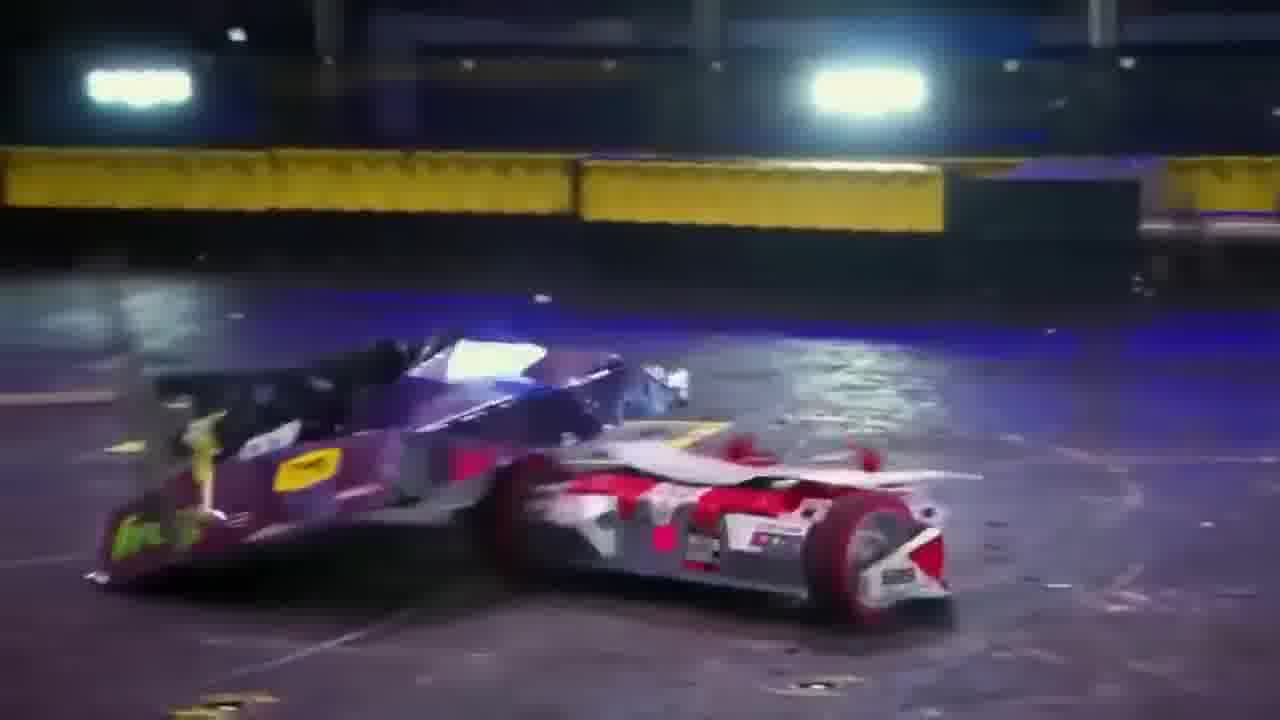combatbot: (98, 333, 685, 617), (480, 417, 945, 627)
